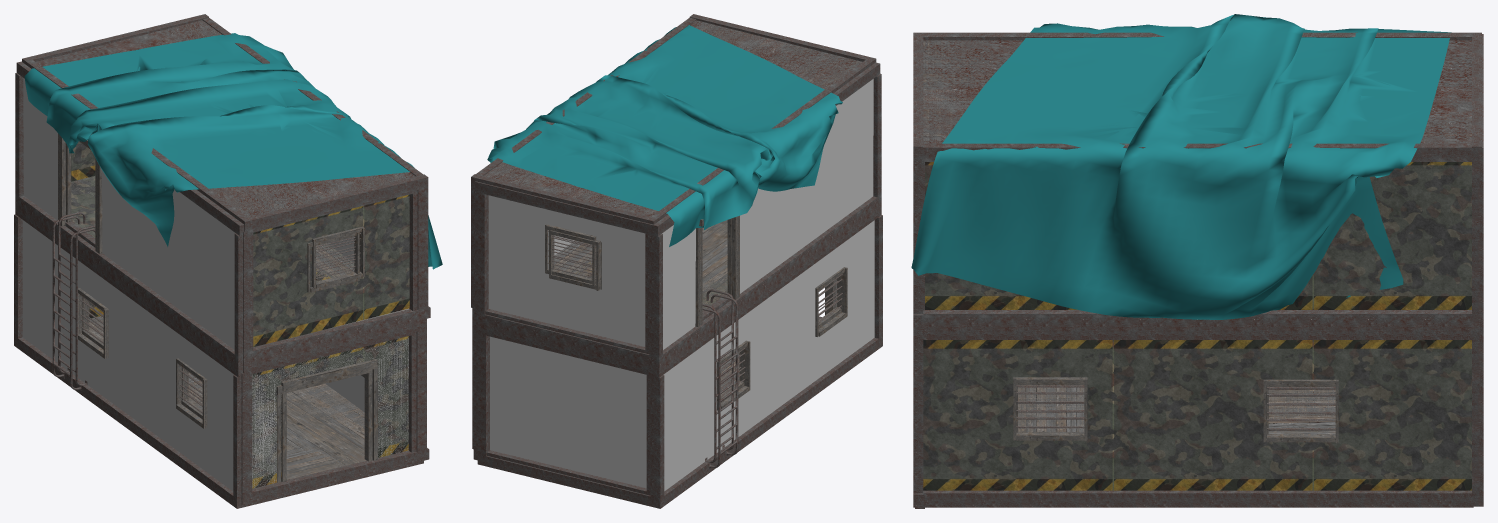
File: cabin.fbx
3 renders of one model, left to right at view 1: azimuth 30°, elevation 25°; view 2: azimuth 150°, elevation 25°; view 3: azimuth 270°, elevation 25°, orthographic. The views are drawn at different scales.
Parts seen in each view (by area): view 1: Cabin__1, Cabin__2, Misc; view 2: Cabin__2, Misc, Cabin__1; view 3: Cabin__1, Misc, Cabin__2.
Part boxes in pixels (box(x1,y1,x2,y2)): Cabin__1: box(22, 14, 430, 504); Cabin__2: box(14, 61, 423, 508); Misc: box(24, 33, 442, 269); Cabin__2: box(475, 62, 882, 508); Misc: box(487, 25, 842, 246); Cabin__1: box(471, 14, 876, 495); Cabin__1: box(913, 32, 1481, 507); Misc: box(911, 14, 1451, 319); Cabin__2: box(915, 34, 1483, 508).
Size of the model in its own units: 242 by 291 by 395.
